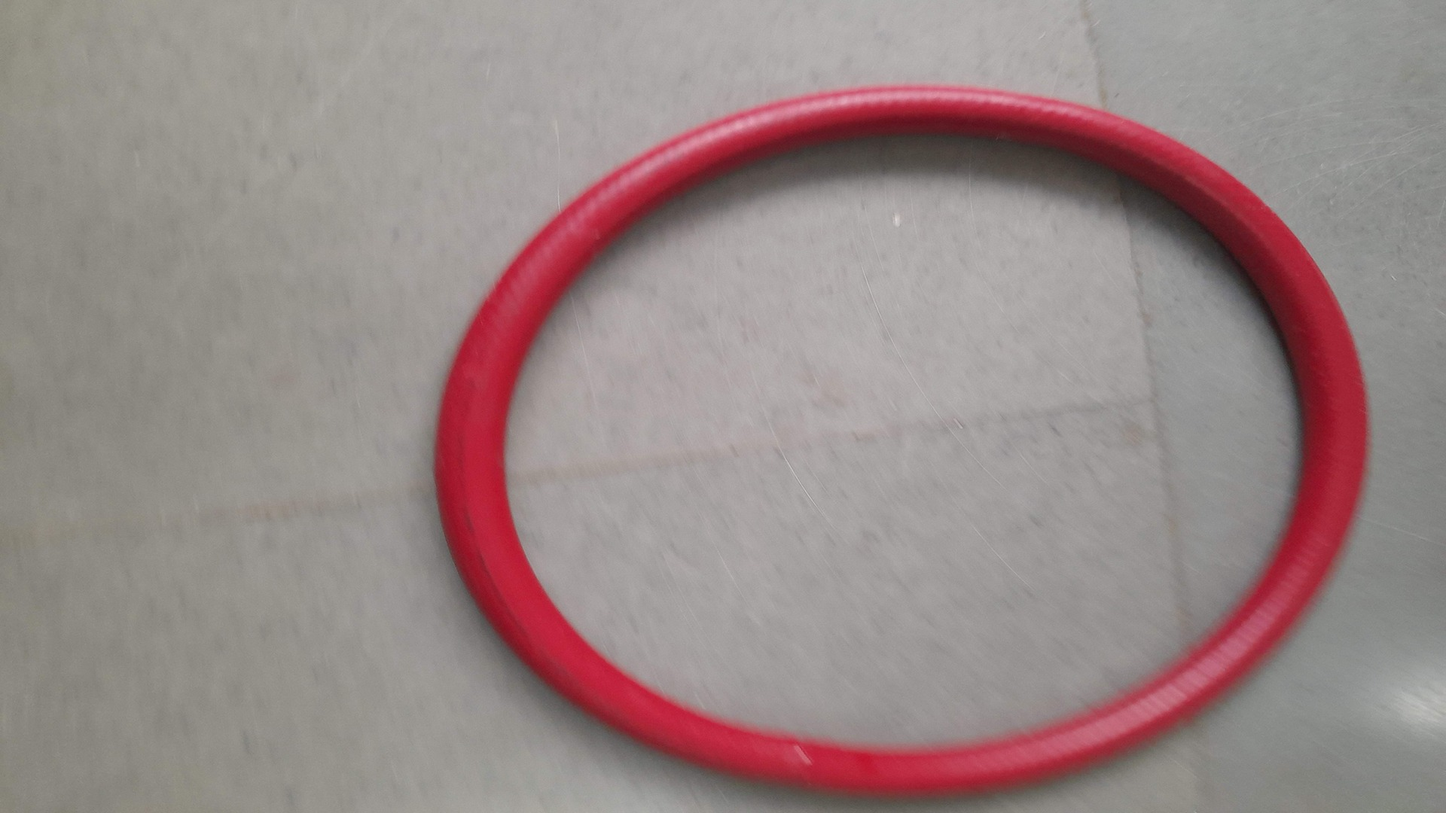Red ring: (432, 86, 1369, 794)
